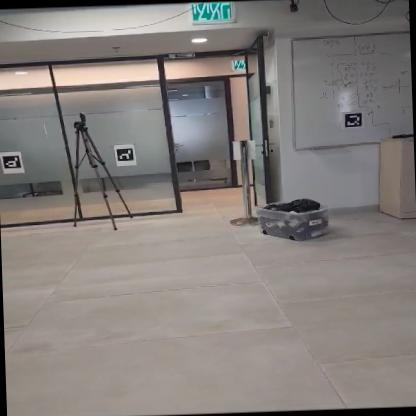open: (162, 70, 272, 216)
